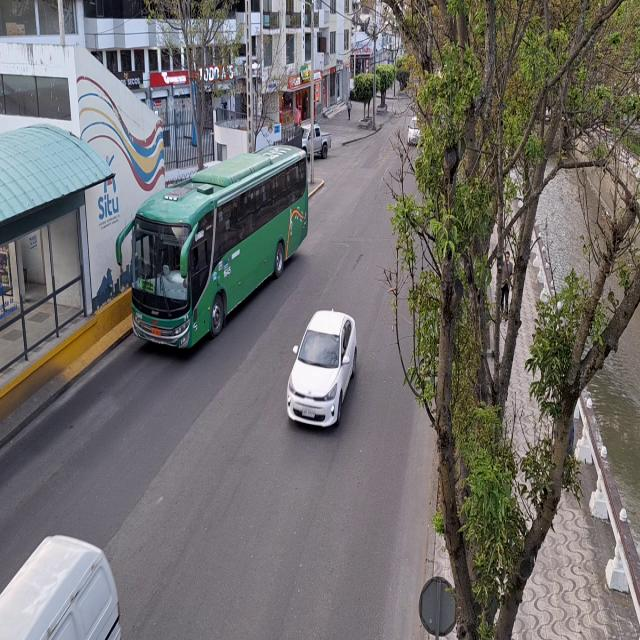BUS: (124, 153, 304, 358)
SED: (289, 309, 358, 433)
